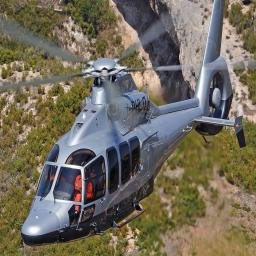helicopter: (6, 10, 248, 250)
